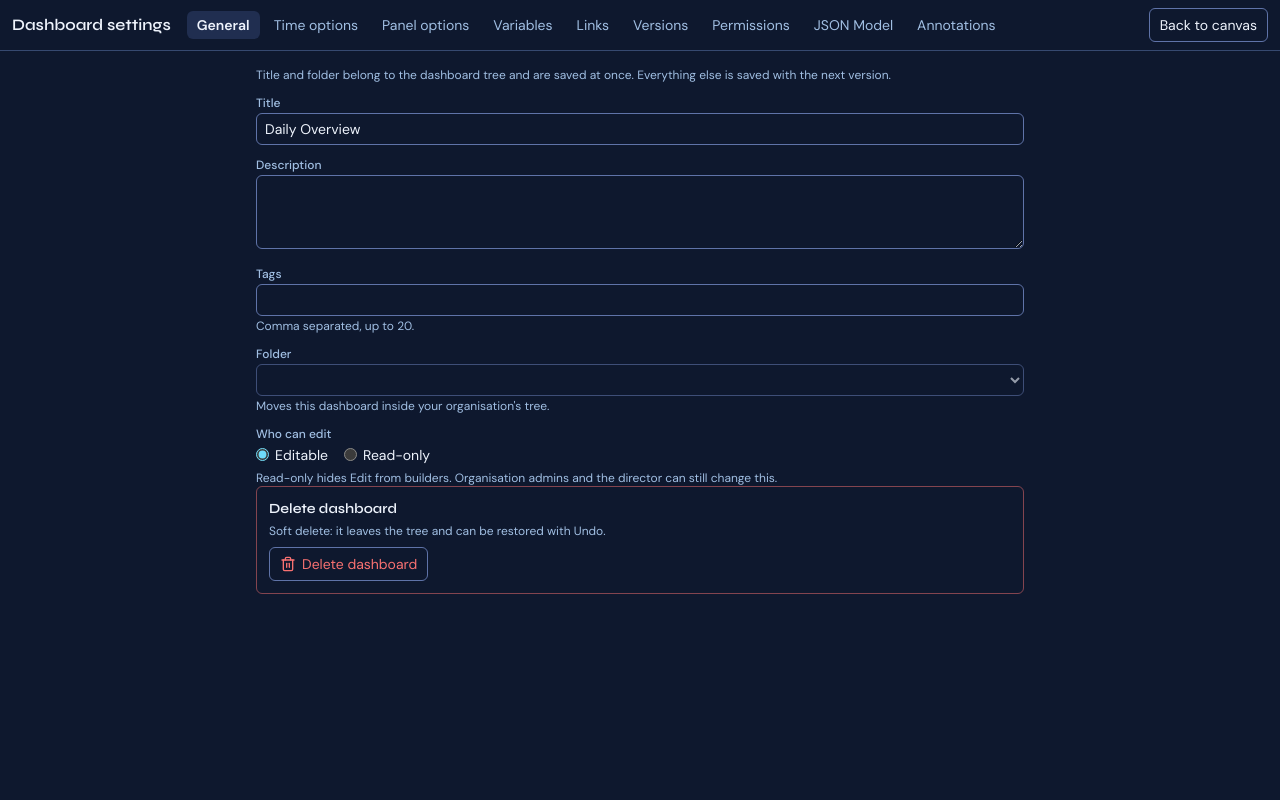
Test: settings view (UI) › a refresh interval below 30s is refused with a message and nothing is applied
Later steps or results of the test are not shown.
Click the tab "Time options" at (316, 25), box [264,11,368,39]
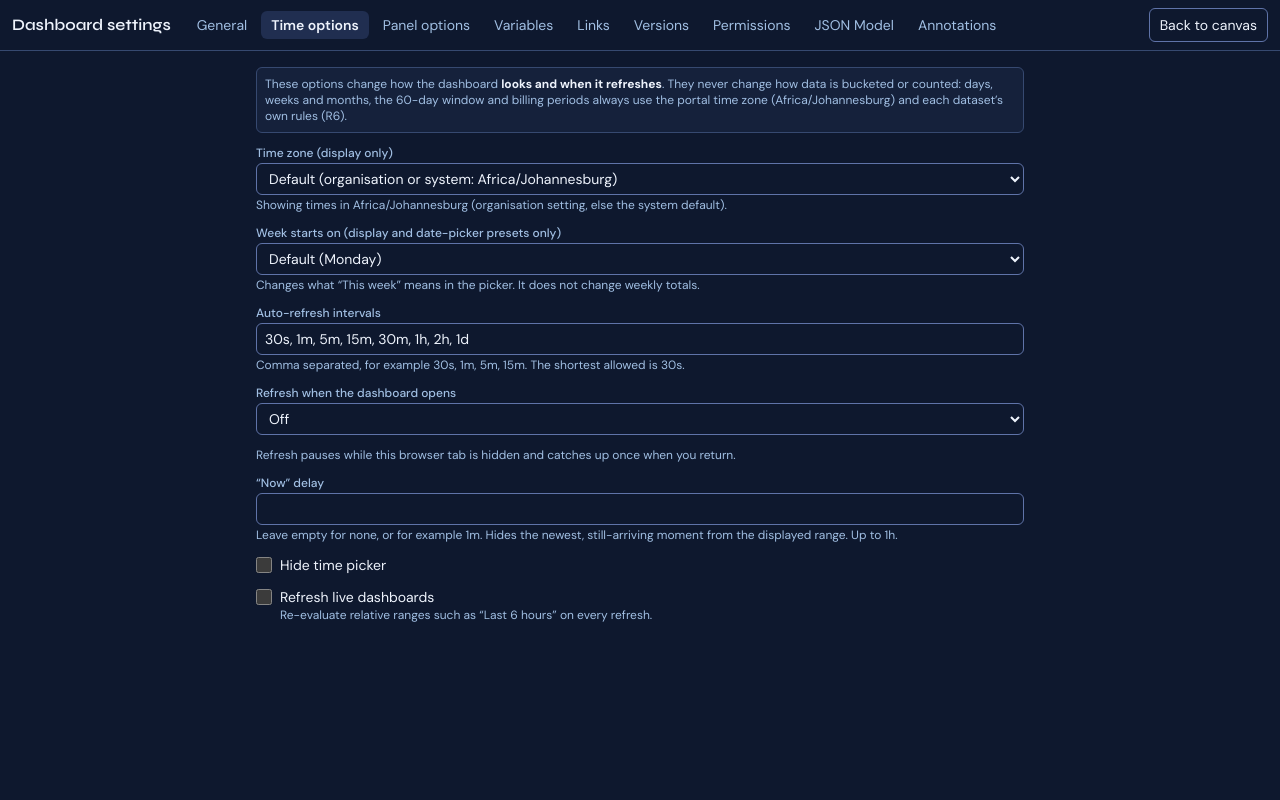
Replace the text in the field labelled "Auto-refresh intervals" with "10s, 1m" at (640, 339), box [256,323,1024,355]
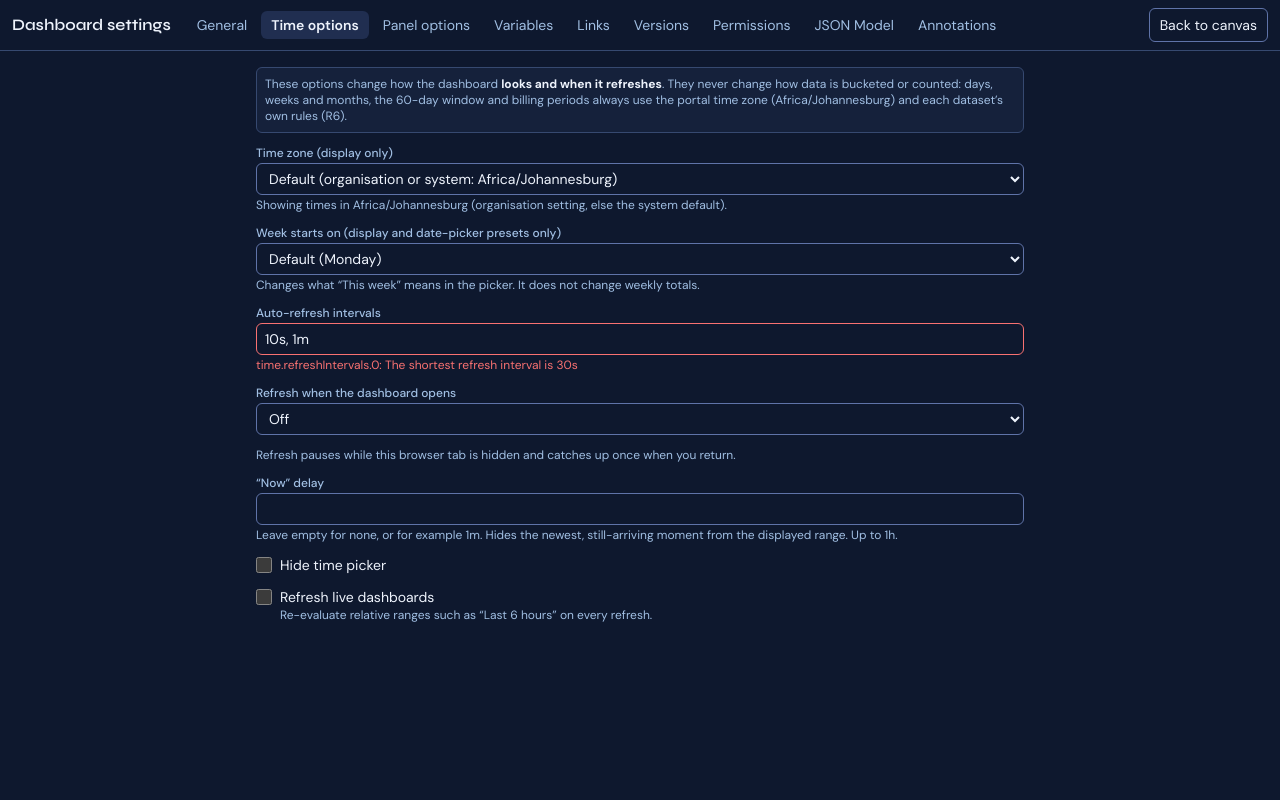
Expected: the message shows "30s", [256,357,578,373]
